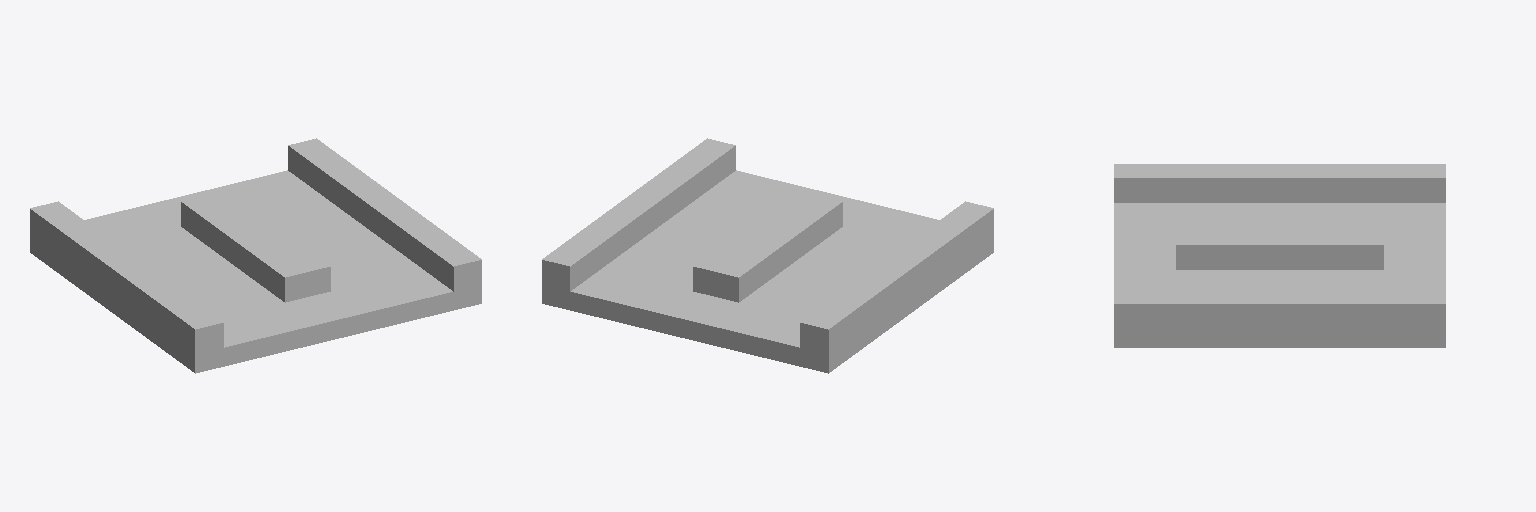
The model's file is Obstacle_block_01.obj.
3 renders of one model, left to right at view 1: azimuth 30°, elevation 25°; view 2: azimuth 150°, elevation 25°; view 3: azimuth 270°, elevation 25°, orthographic.
Parts seen in each view (by area): view 1: Mesh1 Obstacle_block Model; view 2: Mesh1 Obstacle_block Model; view 3: Mesh1 Obstacle_block Model.
Boxes of the visible parts, box(x1,y1,x2,y2) form: Mesh1 Obstacle_block Model: box(30, 138, 481, 373); Mesh1 Obstacle_block Model: box(542, 138, 993, 373); Mesh1 Obstacle_block Model: box(1114, 164, 1445, 347).
Size of the model in its own units: 3 by 0.44 by 3.